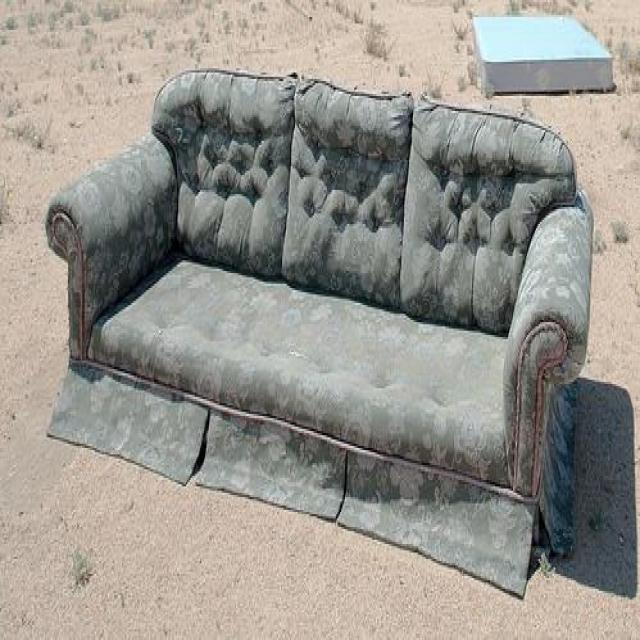sofa: (43, 62, 595, 600)
